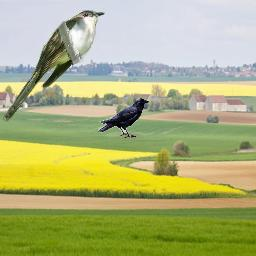Crow: (98, 98, 149, 139)
Cuckoo: (2, 9, 105, 124)
